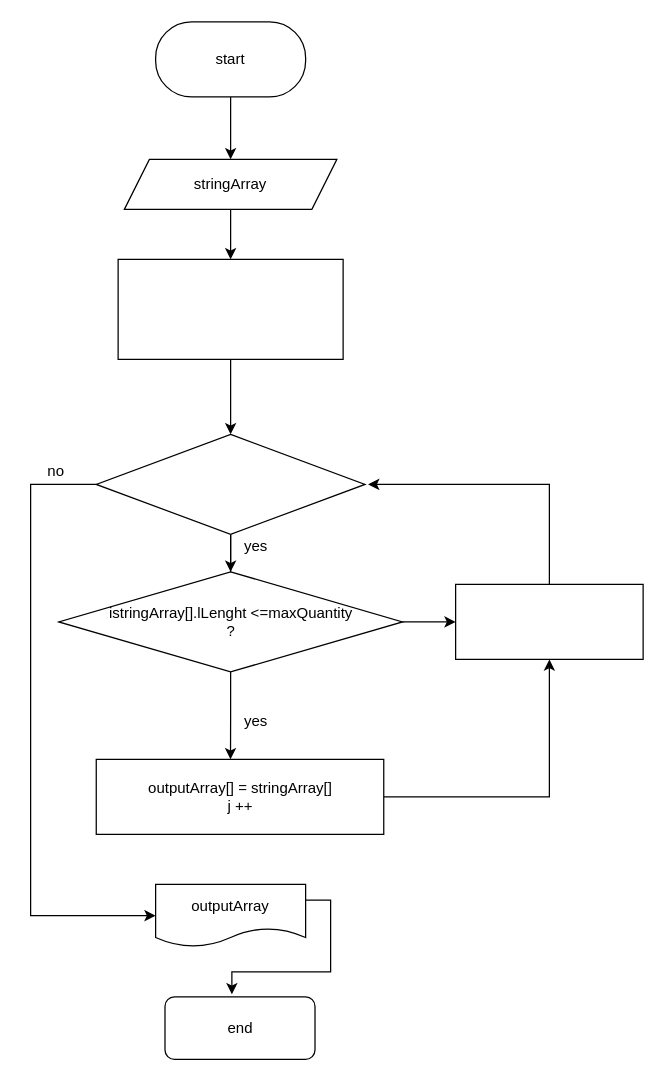
This 665x1081 diagram has some shape labels left out. The shapes that lost their labels are listed below. From the top down, each one's centre as x and y in pixels, then its label:
point (230, 308): maxQuantity = 3 i = 0 outputArray = [] j = 0
point (230, 483): i < stringArray.lLenght ?
point (548, 621): i ++
